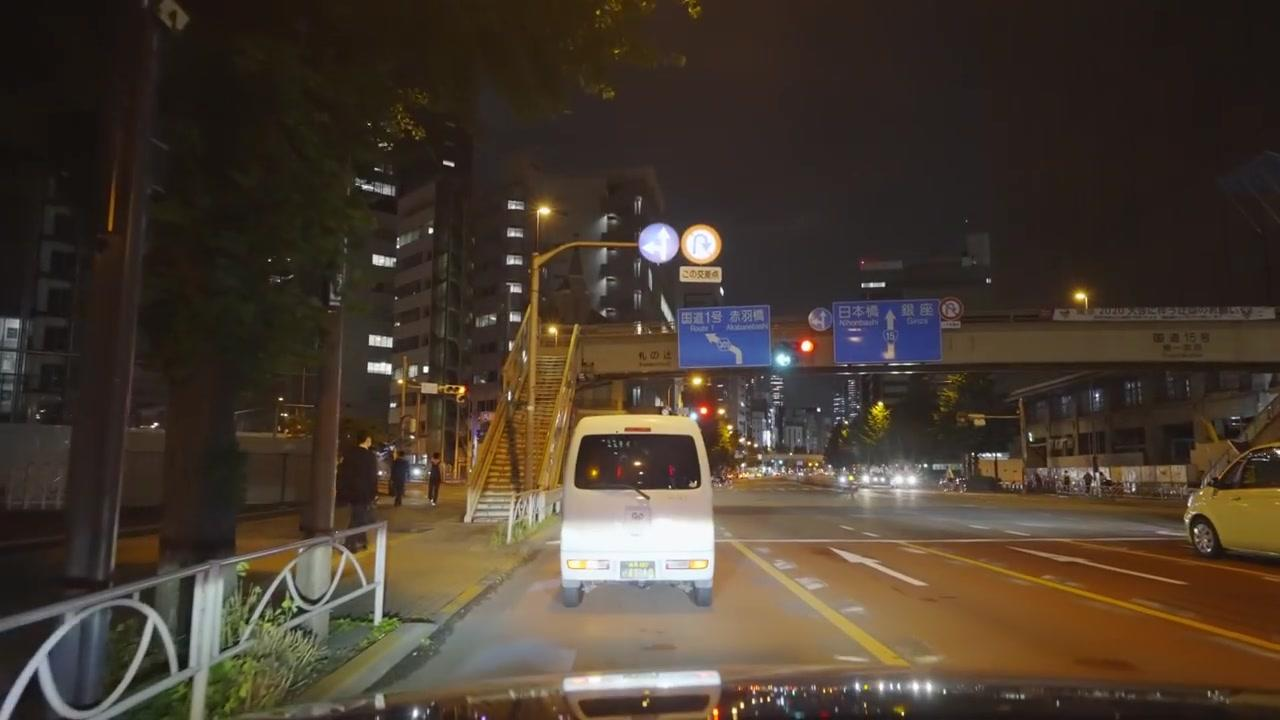car: (558, 412, 715, 609), (1183, 441, 1280, 558)
person: (338, 430, 378, 546), (389, 447, 409, 506), (427, 452, 443, 506)
traffic light: (638, 221, 680, 265), (797, 337, 817, 361)
train: (557, 411, 715, 608)
